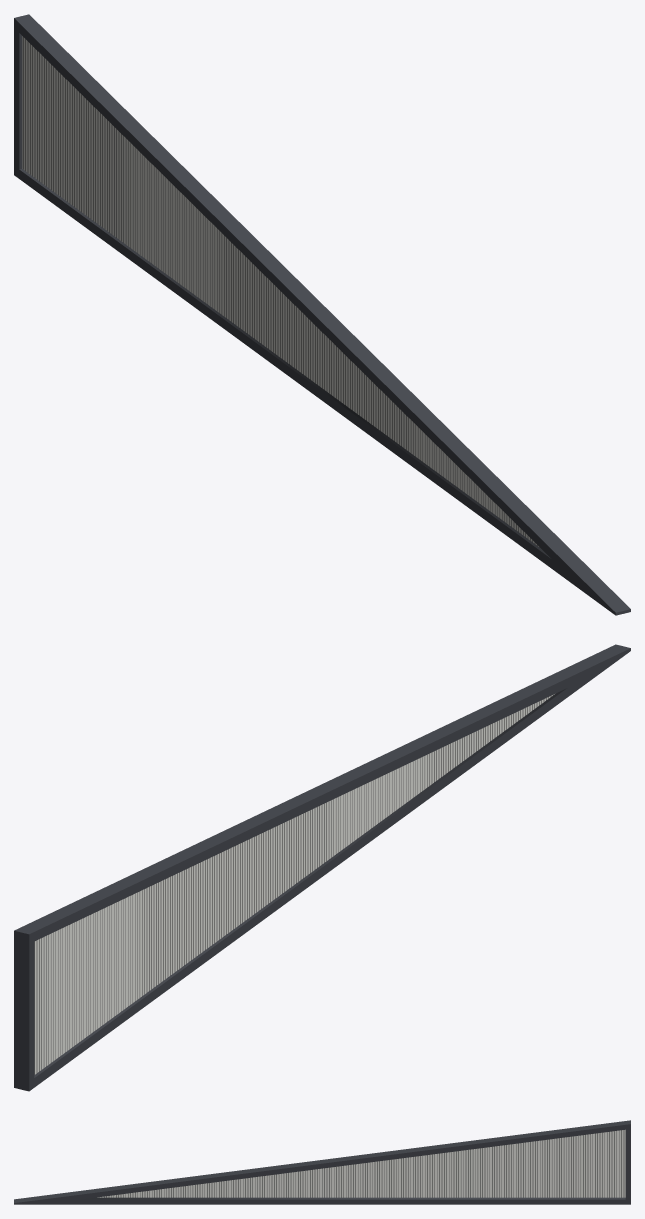
The model's file is nebbiolo_side_gable_left_400_350.glb.
3 renders of one model, top to bottom at view 1: azimuth 30°, elevation 25°; view 2: azimuth 150°, elevation 25°; view 3: azimuth 270°, elevation 25°, orthographic. The views are drawn at different scales.
Parts seen in each view (by area): view 1: side_gable_left_400_350; view 2: side_gable_left_400_350; view 3: side_gable_left_400_350.
Part boxes in pixels (bbox=[...]): side_gable_left_400_350: bbox=[14, 14, 630, 615]; side_gable_left_400_350: bbox=[14, 644, 630, 1091]; side_gable_left_400_350: bbox=[14, 1120, 630, 1204].
Bounding box in the file's own units: 0.05 × 0.4949 × 3.43.
2 materials, 2 textured.
